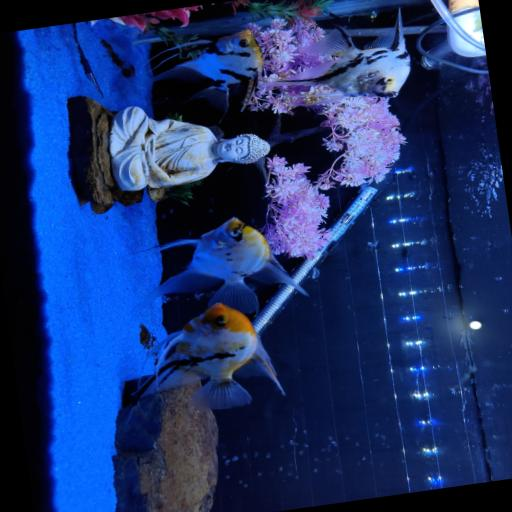Fish: (133, 217, 306, 313), (132, 302, 283, 408), (257, 9, 409, 102), (151, 29, 262, 113)
